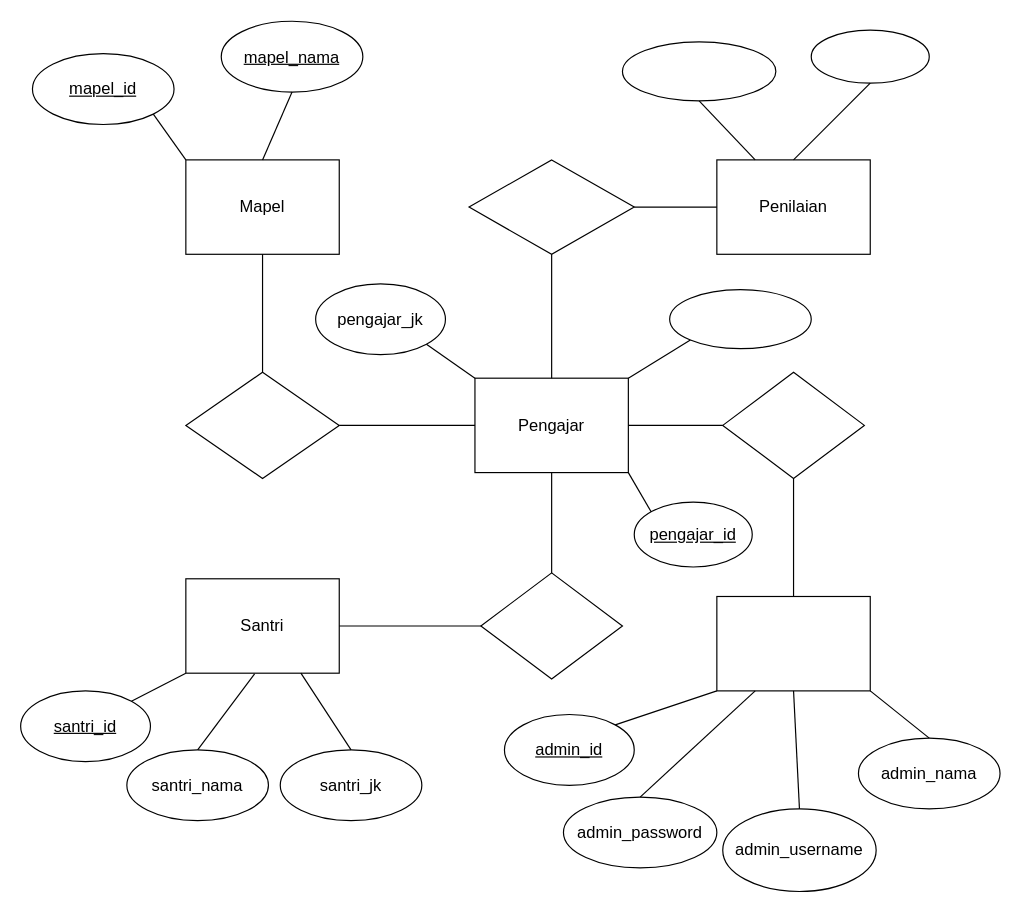
Some shapes in this 1021 by 912 pixel diagram are drawn without their labels. Each missing label, with the centre of its shape:
"Admin" goes at pixel 793 643.
"login sebagai" goes at pixel 793 424.
"memberi nilai" goes at pixel 551 206.
"menambahkan" goes at pixel 262 424.
"mengajar" goes at pixel 551 625.
"nilai" goes at pixel 869 56.
"pengajar_nama" goes at pixel 739 319.
"penilaian_id" goes at pixel 698 71.
